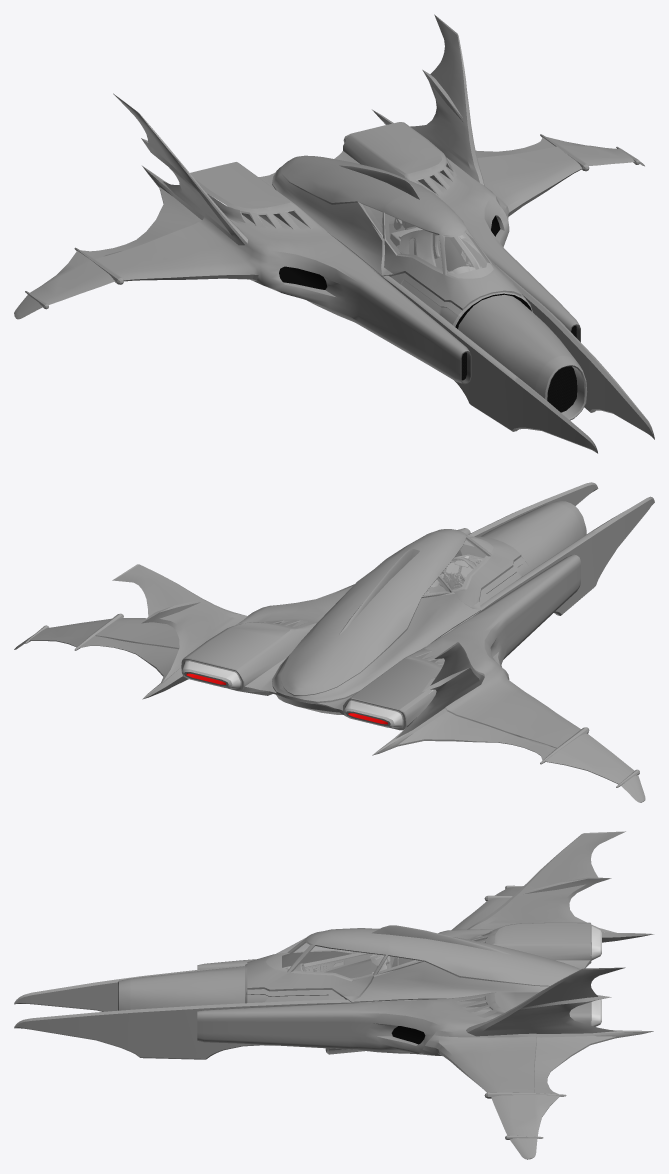
The model's file is batwing.glb.
The picture shows the model from 3 angles, top to bottom: view 1: azimuth 30°, elevation 25°; view 2: azimuth 150°, elevation 25°; view 3: azimuth 270°, elevation 25°; orthographic projection. The views are drawn at different scales.
Parts seen in each view (by area): view 1: Material2 (×6); view 2: Material2 (×3); view 3: Material2 (×4).
Boxes of the visible parts, x1,y1,x2,y2 form: Material2 (×6): [14, 14, 654, 453]; Material2 (×3): [14, 482, 654, 802]; Material2 (×4): [14, 831, 653, 1159].
Size of the model in its own units: 339 by 88.56 by 346.
Materials: 11 (1 with a texture image).
